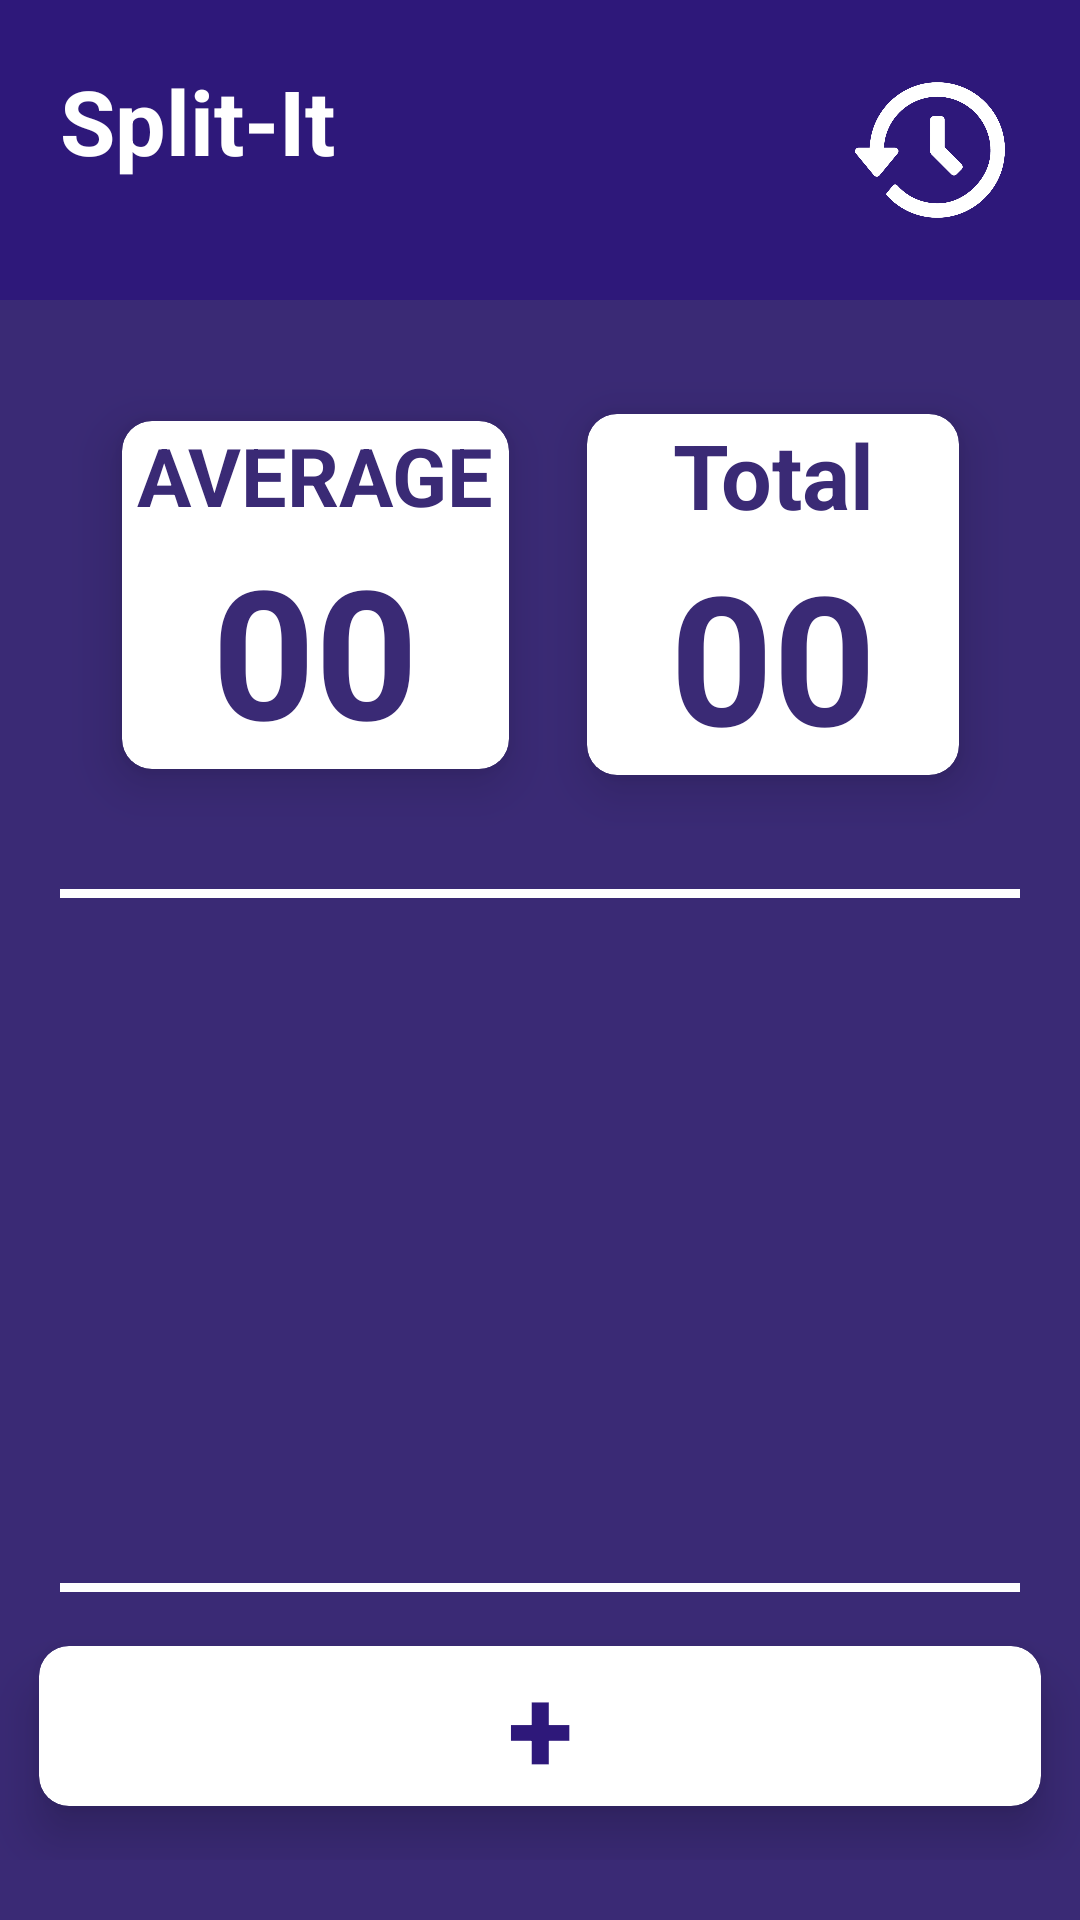

Screen size 1080px×1920px. Icon name, then its box in pixels as box(x1, y1, x2, y2):
history: box(855, 82, 1005, 218)
